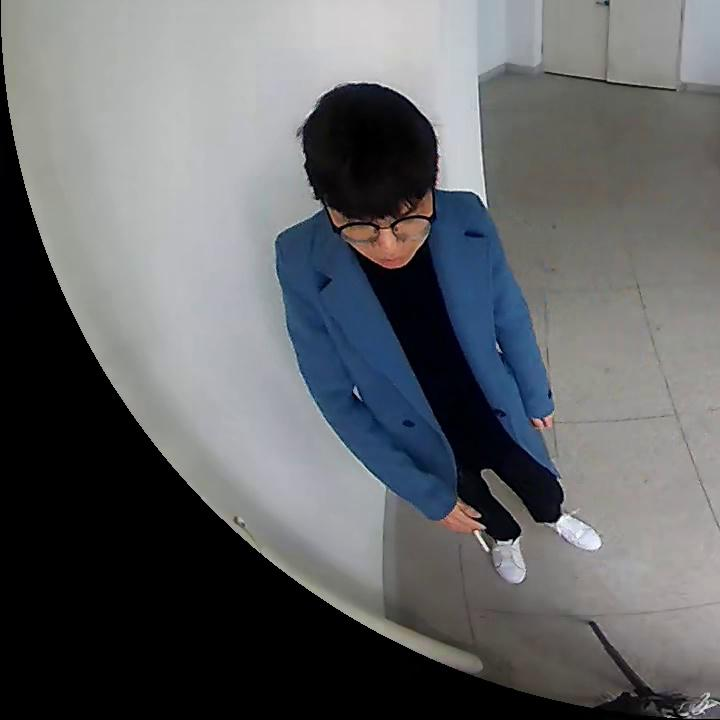handsmoke: (452, 503, 491, 553)
handwithoutsmoke: (535, 418, 555, 430)
mouthwithoutsmoke: (299, 82, 437, 271)
